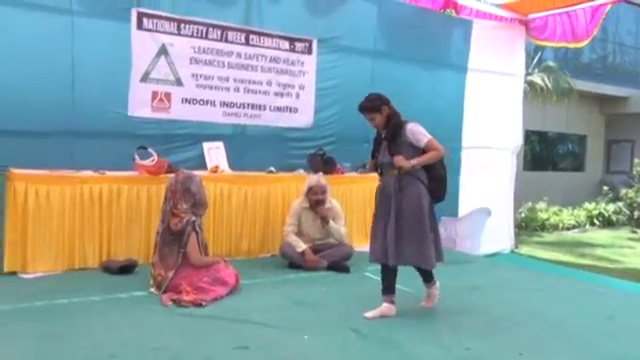helmet_off: (164, 172, 207, 215), (357, 92, 391, 133), (305, 174, 329, 210)
person: (357, 89, 448, 321), (147, 171, 242, 308), (277, 171, 355, 274)
